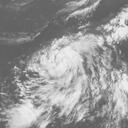cyclone: (30, 39, 89, 101)
